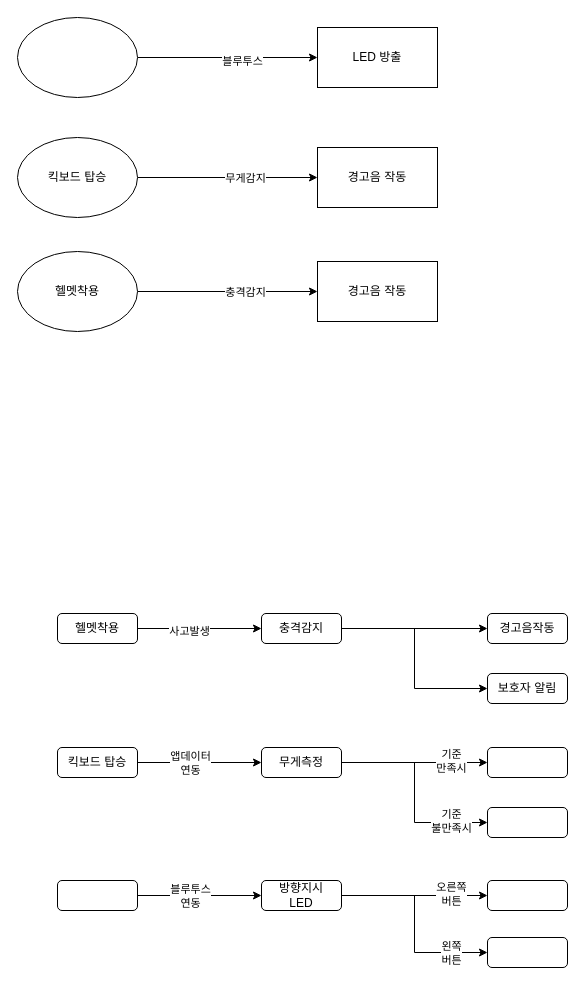
Some shapes in this 585 by 985 pixel diagram are drawn without their labels. The centre of each missing label's shape, as x and y in pixels:
"경고음" goes at (527,822).
"버튼작동" goes at (77,57).
"오른쪽 방향지시 ON" goes at (527,895).
"왼쪽 방향지시 ON" goes at (527,952).
"정상운행" goes at (527,762).
"킥보드 손잡이 버튼" goes at (97,895).
